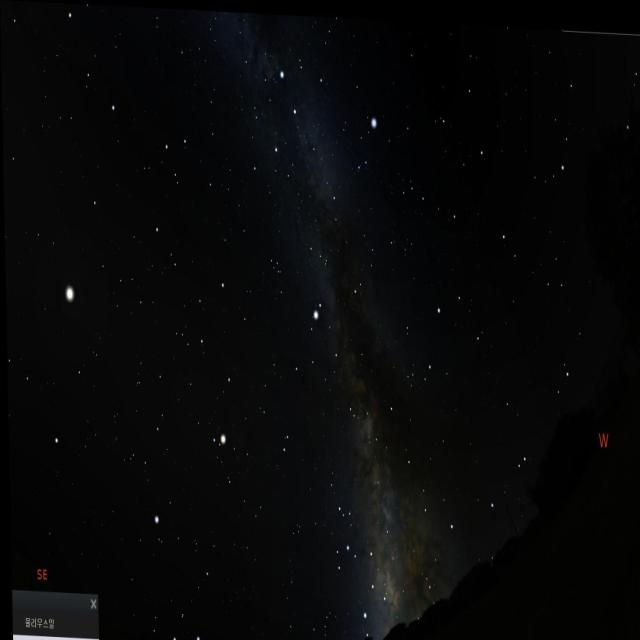aquila: (288, 284, 364, 422)
cygnus: (266, 55, 341, 235)
lyra: (343, 101, 381, 183)
sagittarius: (340, 529, 384, 632)
